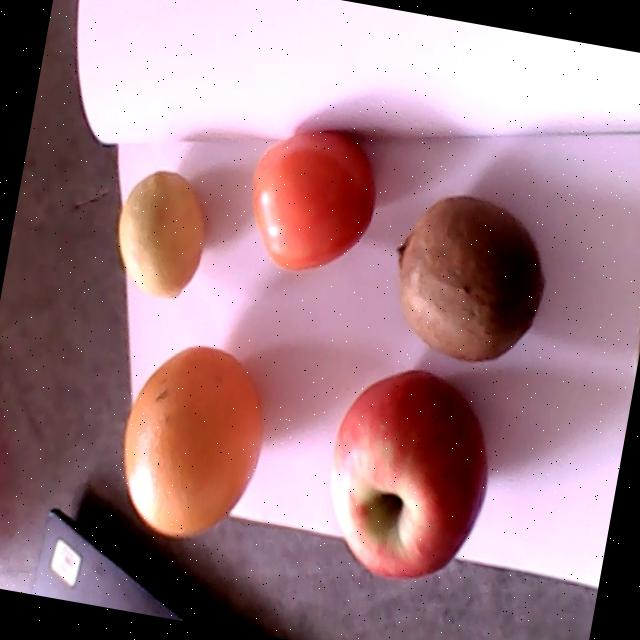apple: (329, 368, 487, 578)
kiwi: (394, 193, 544, 361)
lemon: (116, 172, 206, 299)
orange: (121, 346, 262, 536)
tomato: (252, 130, 374, 268)
